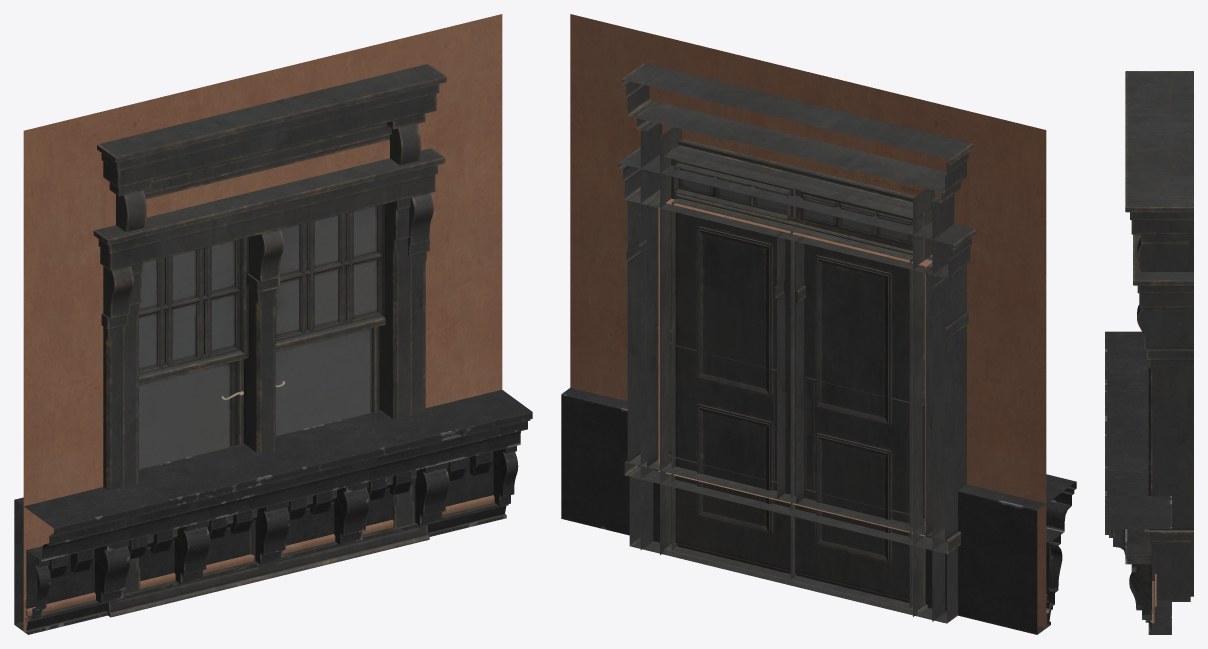
Rendered from apartment-facade-kit.glb.
The picture shows the model from 3 angles, left to right: view 1: azimuth 30°, elevation 25°; view 2: azimuth 150°, elevation 25°; view 3: azimuth 270°, elevation 25°; orthographic projection. The views are drawn at different scales.
Visible parts, largest first — view 1: wall_door_centered_large_01, window_centered_large_02, crown_standard_standard_01, door_centered_large_01, window_centered_large_03, wall_window_centered_large_02, window_centered_large_01, wall_window_centered_large_01, wall_window_centered_large_03, cornice_standard_standard_01; view 2: door_centered_large_01, wall_window_centered_large_01, wall_window_centered_large_02, window_centered_large_02, crown_standard_standard_01, wall_door_centered_large_01, wall_window_centered_large_03, window_centered_large_01; view 3: door_centered_large_01, window_centered_large_02, crown_standard_standard_01, window_centered_large_01, cornice_standard_standard_01.
Part boxes in pixels (x1,y1,x2,y2): wall_door_centered_large_01: [23, 14, 502, 631]; window_centered_large_02: [93, 148, 445, 536]; crown_standard_standard_01: [14, 389, 532, 634]; door_centered_large_01: [97, 63, 446, 593]; window_centered_large_03: [139, 204, 385, 468]; wall_window_centered_large_02: [23, 108, 426, 524]; window_centered_large_01: [106, 471, 429, 617]; wall_window_centered_large_01: [23, 48, 450, 572]; wall_window_centered_large_03: [24, 47, 430, 494]; cornice_standard_standard_01: [24, 495, 494, 631]; door_centered_large_01: [621, 63, 973, 621]; wall_window_centered_large_01: [570, 14, 1046, 627]; wall_window_centered_large_02: [570, 14, 1046, 627]; window_centered_large_02: [618, 147, 976, 553]; crown_standard_standard_01: [561, 387, 1076, 634]; wall_door_centered_large_01: [571, 47, 1046, 520]; wall_window_centered_large_03: [570, 14, 1046, 626]; window_centered_large_01: [629, 467, 957, 623]; door_centered_large_01: [1125, 71, 1193, 596]; window_centered_large_02: [1133, 234, 1193, 542]; crown_standard_standard_01: [1105, 331, 1171, 634]; window_centered_large_01: [1152, 542, 1190, 601]; cornice_standard_standard_01: [1150, 574, 1156, 623].
Size of the model in its own units: 3 by 3 by 0.57.
5 materials, 5 textured.
